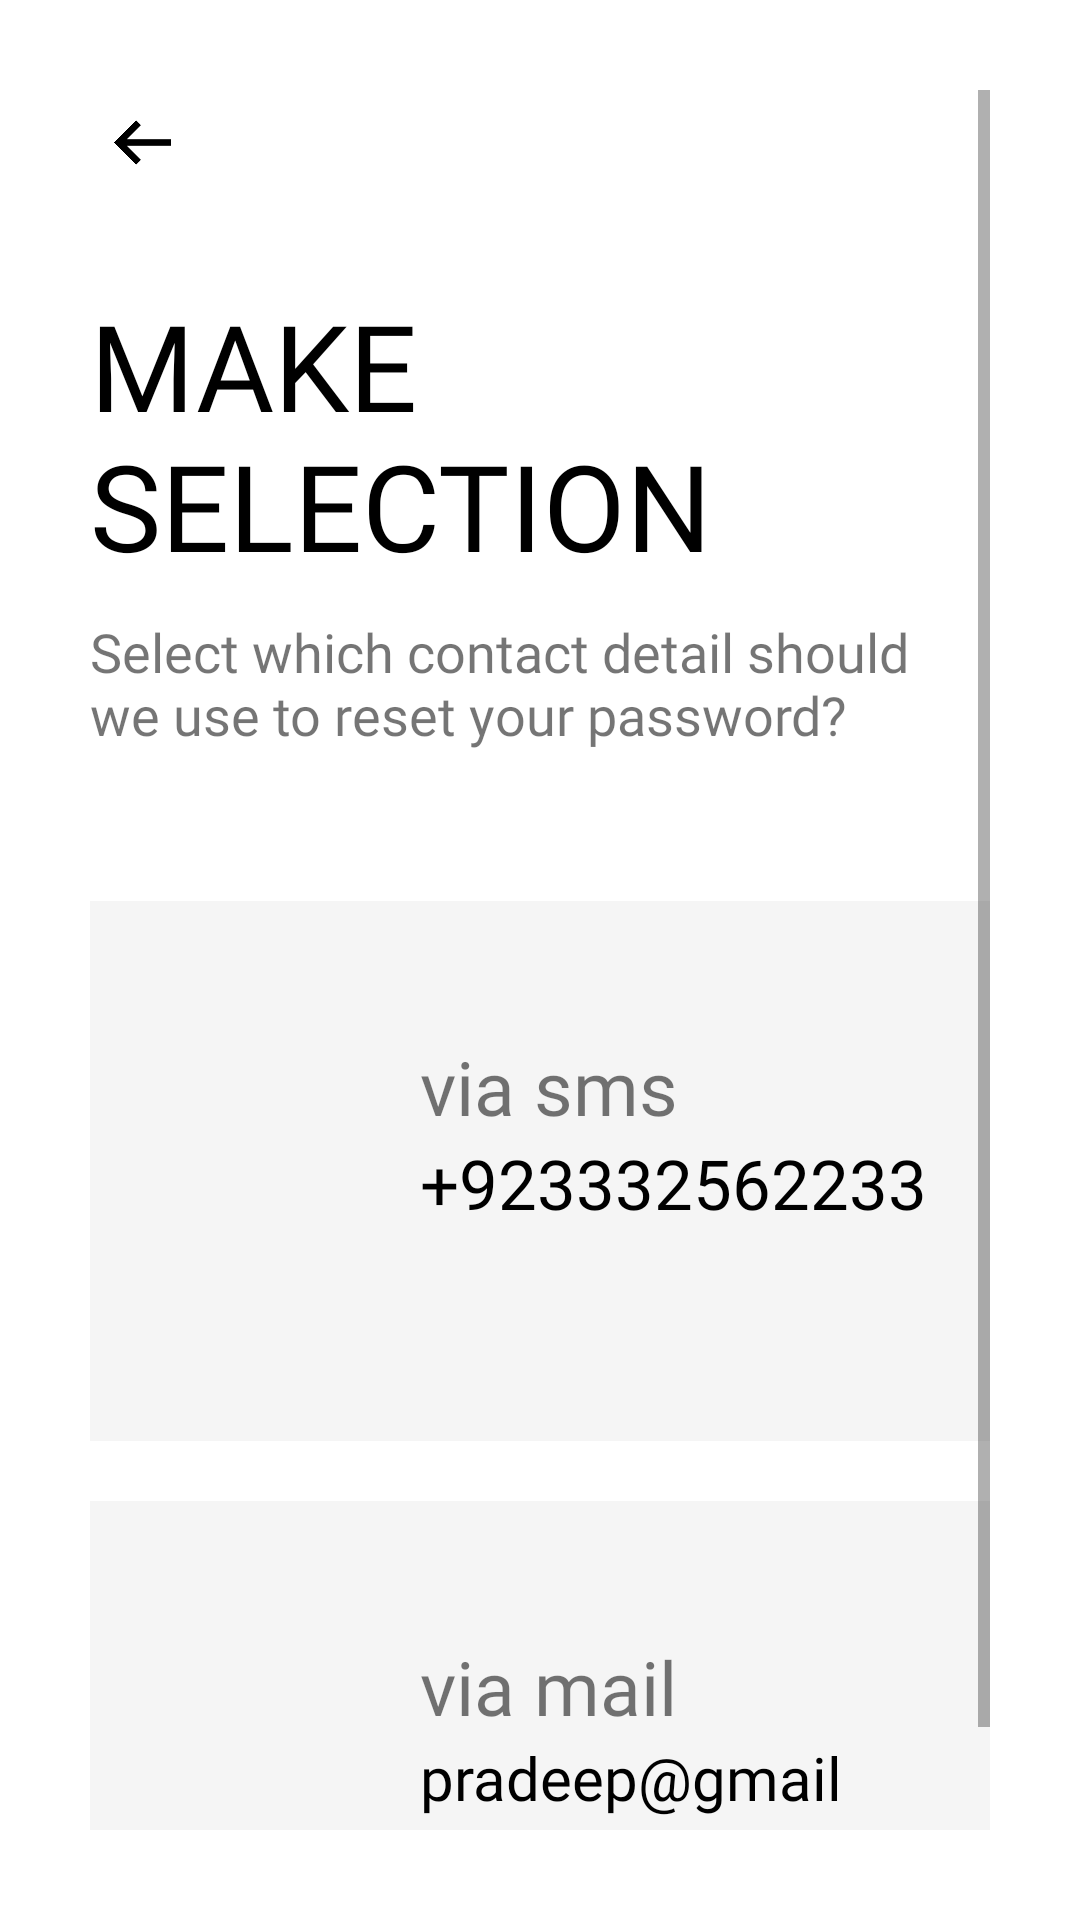

Screen size 1080px x 1920px. Icon name, then its box in pixels as (x1,y1,x2,y2):
left: (114,120,171,165)
